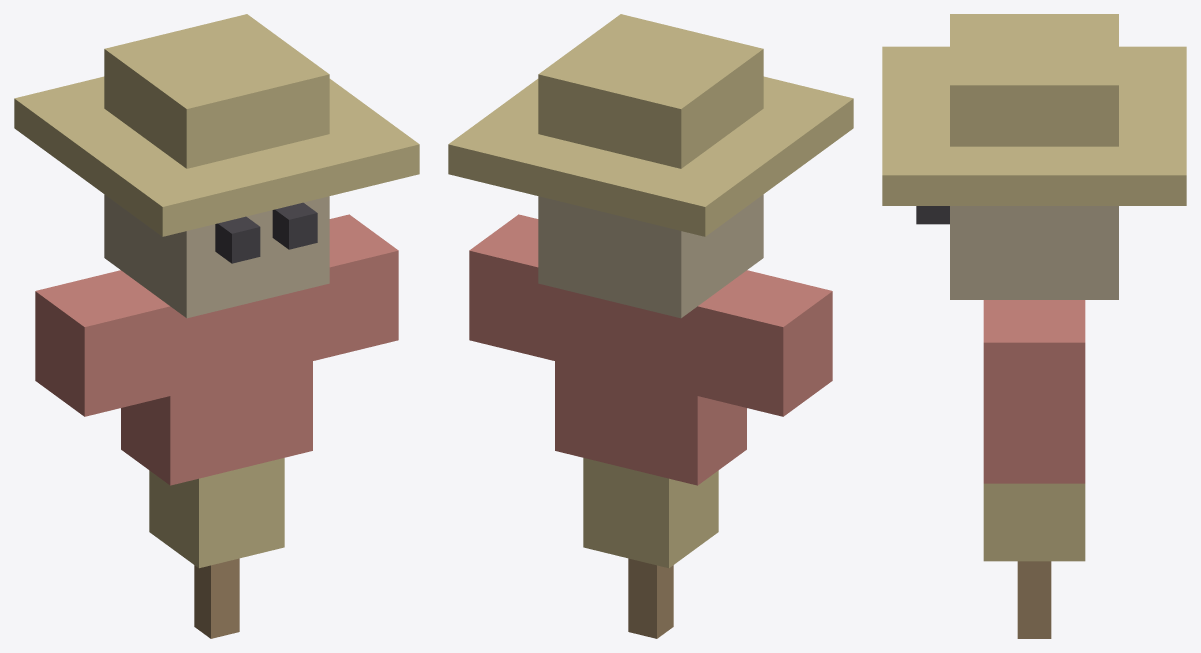
The model's file is epouvantail.glb.
3 views of the same model, side by side, from view 1: azimuth 30°, elevation 25°; view 2: azimuth 150°, elevation 25°; view 3: azimuth 270°, elevation 25° (orthographic). The views are drawn at different scales.
Visible parts, largest first — view 1: geometry_0; view 2: geometry_0; view 3: geometry_0.
Boxes of the visible parts, bbox=[...] form: geometry_0: bbox=[14, 14, 419, 638]; geometry_0: bbox=[448, 14, 853, 638]; geometry_0: bbox=[882, 14, 1186, 638].
Bounding box in the file's own units: 1.38 × 2.38 × 1.12.
